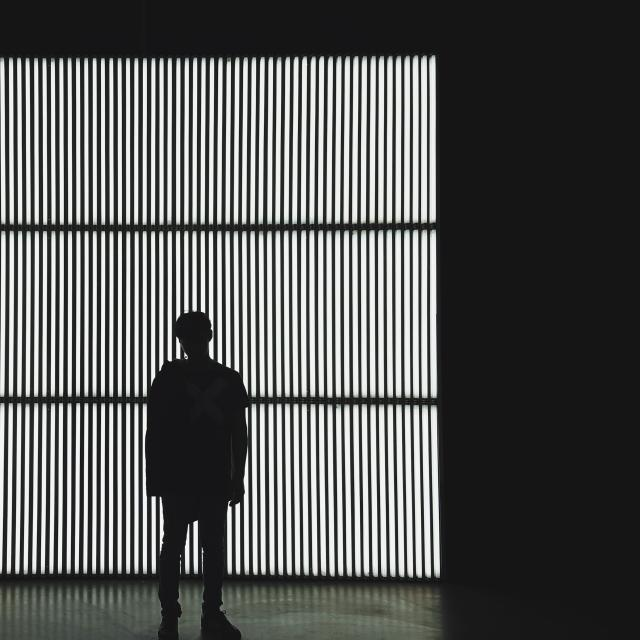adult: (147, 307, 255, 640)
